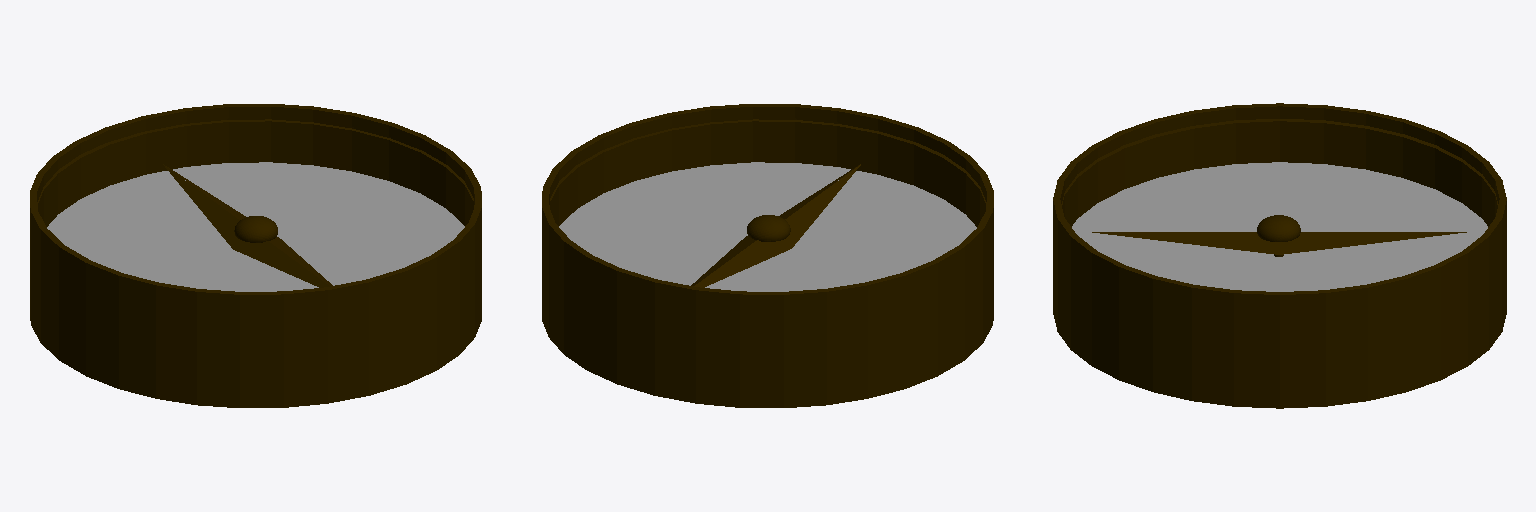
File: compass.obj
3 renders of one model, left to right at view 1: azimuth 30°, elevation 25°; view 2: azimuth 150°, elevation 25°; view 3: azimuth 270°, elevation 25°, orthographic.
Parts seen in each view (by area): view 1: case, mappa, lancetta, chiodo; view 2: case, mappa, lancetta, chiodo; view 3: case, mappa, lancetta, chiodo.
Part boxes in pixels (left/top/right/bottom): case: left=30, top=104, right=481, bottom=407; mappa: left=47, top=162, right=464, bottom=291; lancetta: left=163, top=164, right=332, bottom=287; chiodo: left=234, top=216, right=277, bottom=242; case: left=542, top=104, right=993, bottom=407; mappa: left=559, top=162, right=976, bottom=291; lancetta: left=691, top=164, right=860, bottom=287; chiodo: left=747, top=215, right=790, bottom=241; case: left=1053, top=103, right=1506, bottom=408; mappa: left=1072, top=162, right=1487, bottom=291; lancetta: left=1092, top=232, right=1466, bottom=254; chiodo: left=1257, top=215, right=1300, bottom=256.
Size of the model in its own units: 1.38 by 0.3818 by 1.38.